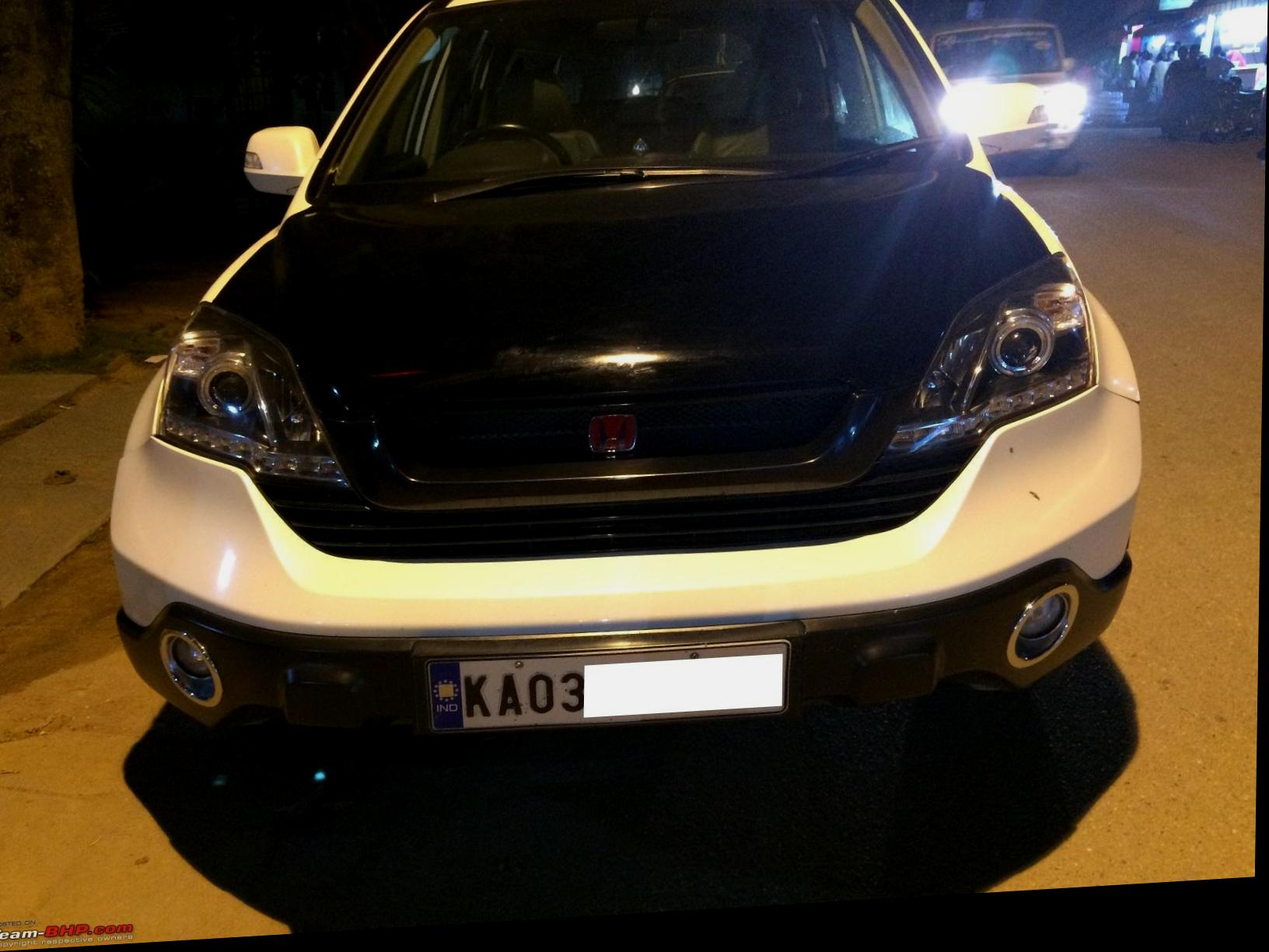License_Plate: (402, 611, 811, 766)
